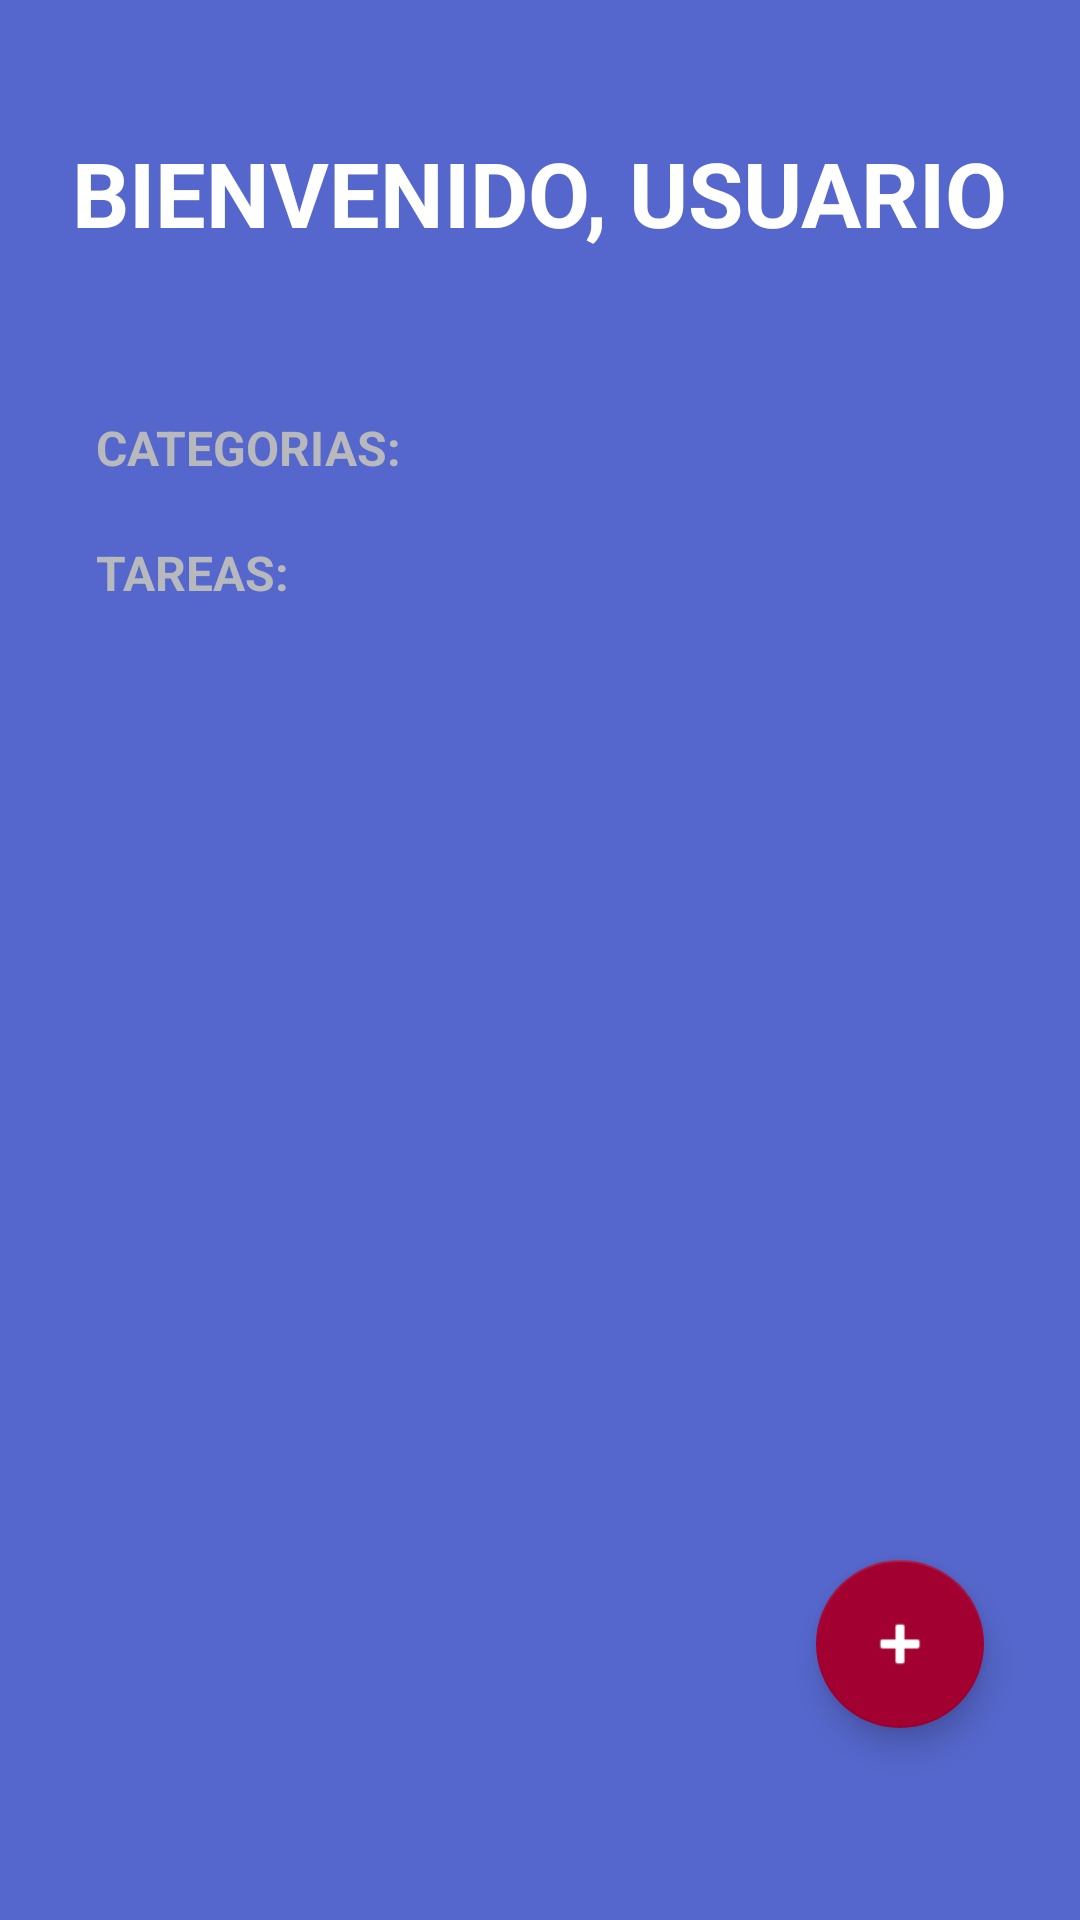

Named icons in this screenshot (1080x1920) and their centers, (x=x, y=y):
add: (x=900, y=1644)
